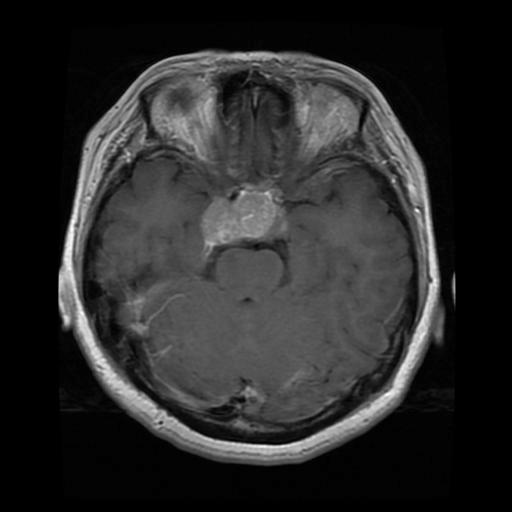Tumour-Pituitary: (187, 176, 297, 256)
